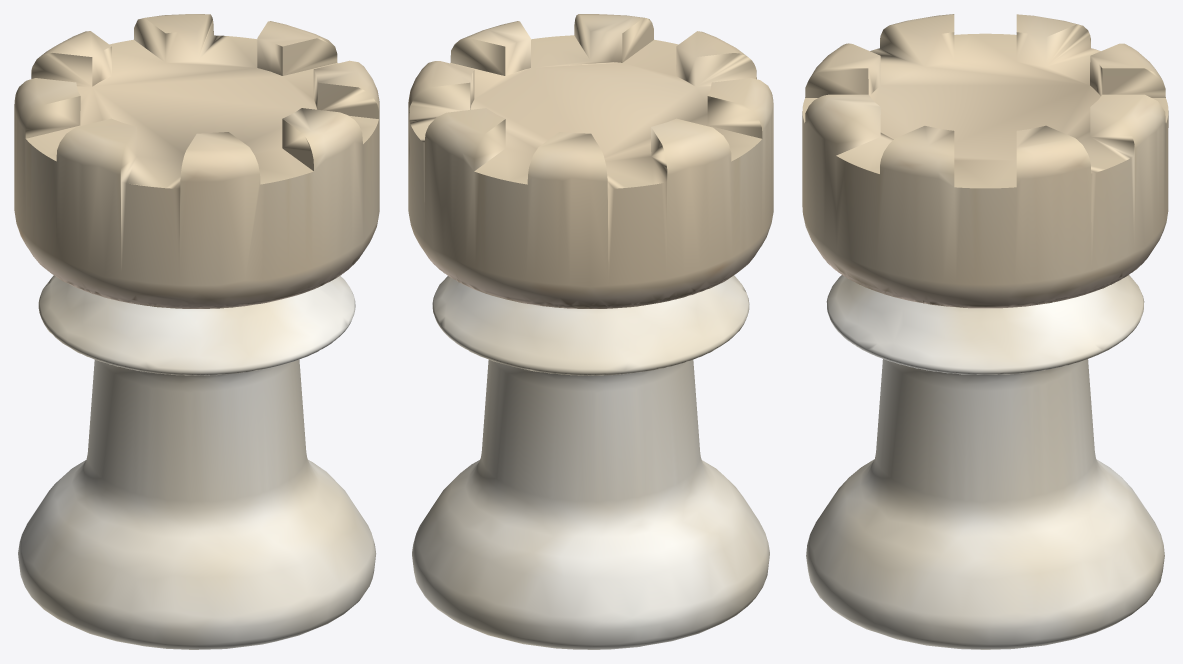
The model's file is rook-light.glb.
The picture shows the model from 3 angles, left to right: view 1: azimuth 30°, elevation 25°; view 2: azimuth 150°, elevation 25°; view 3: azimuth 270°, elevation 25°; orthographic projection.
Parts seen in each view (by area): view 1: body; view 2: body; view 3: body.
Boxes of the visible parts, x1,y1,x2,y2 form: body: [14, 14, 379, 649]; body: [408, 14, 773, 649]; body: [802, 14, 1168, 649].
Size of the model in its own units: 2.24 by 3.39 by 2.24.
